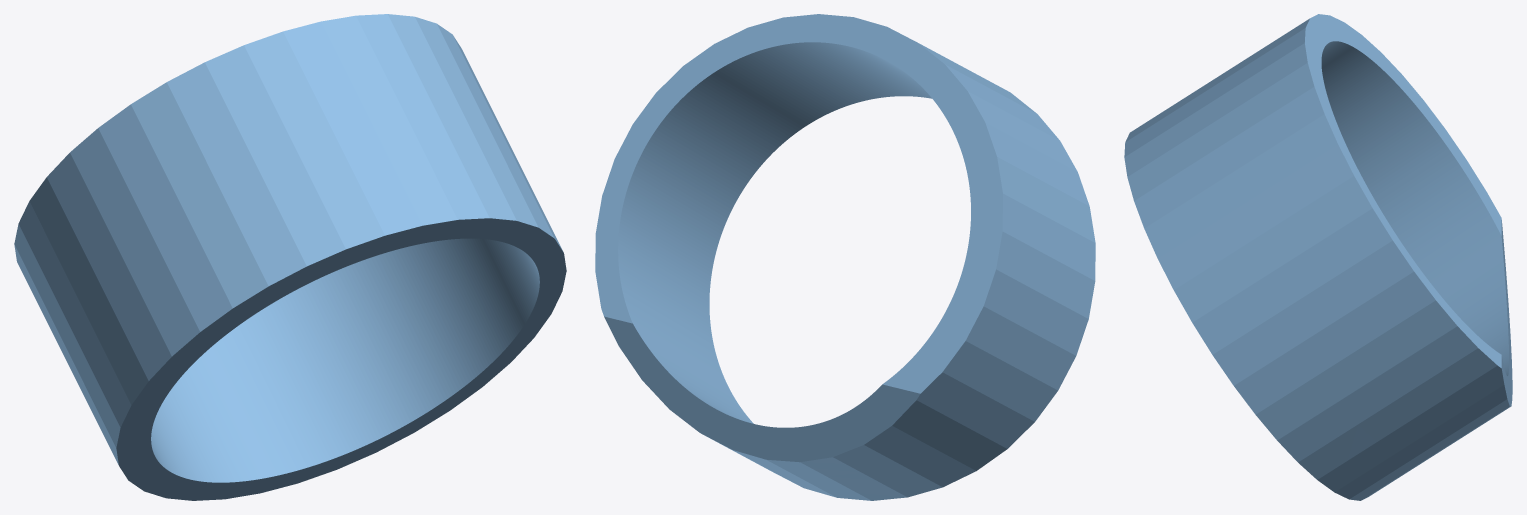
Rendered from neck.glb.
The picture shows the model from 3 angles, left to right: view 1: azimuth 30°, elevation 25°; view 2: azimuth 150°, elevation 25°; view 3: azimuth 270°, elevation 25°; orthographic projection. The views are drawn at different scales.
Visible parts, largest first — view 1: neck.stl.stl; view 2: neck.stl.stl; view 3: neck.stl.stl.
Part boxes in pixels (box(x1,y1,x2,y2)): neck.stl.stl: box(14, 14, 566, 500); neck.stl.stl: box(595, 14, 1095, 500); neck.stl.stl: box(1124, 14, 1512, 500).
Size of the model in its own units: 228 by 253 by 203.
